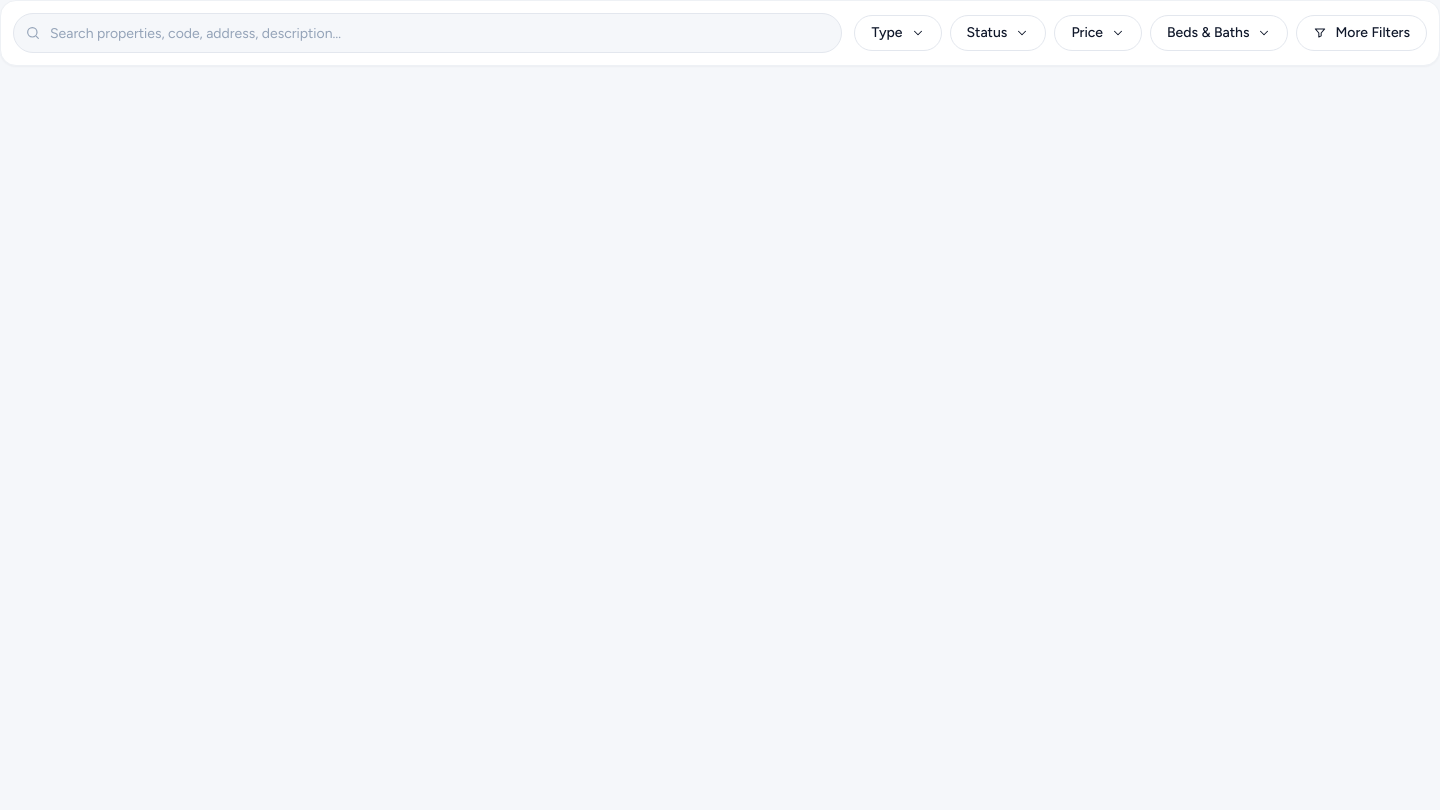
it: FilterControls › toggles type chips via the Type dialog
The image size is (1440, 810).
Click the button "Type" at {"x": 898, "y": 33}, box [854,15,942,51]
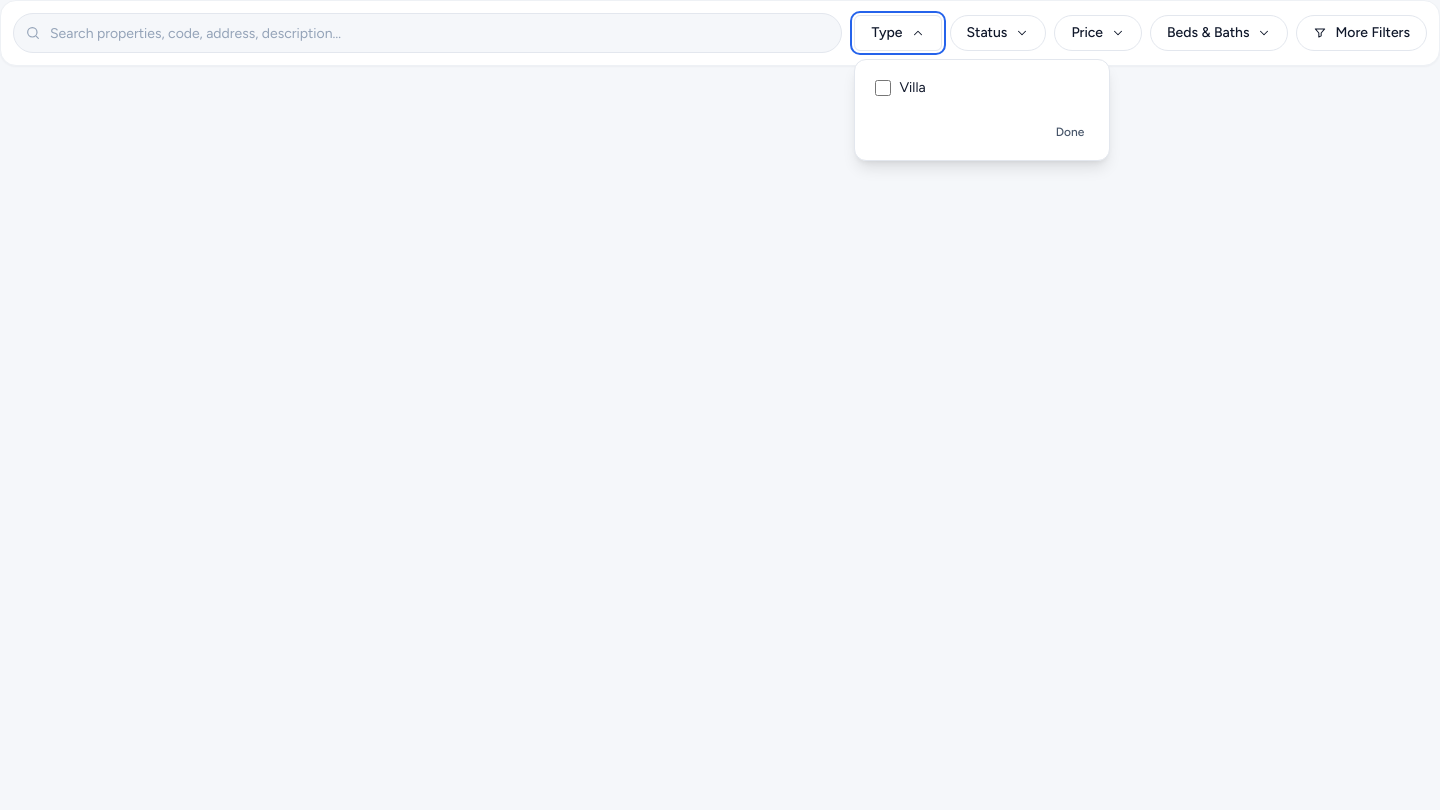
Click the checkbox labelled "Villa" at {"x": 883, "y": 88}, box [875,80,891,96]
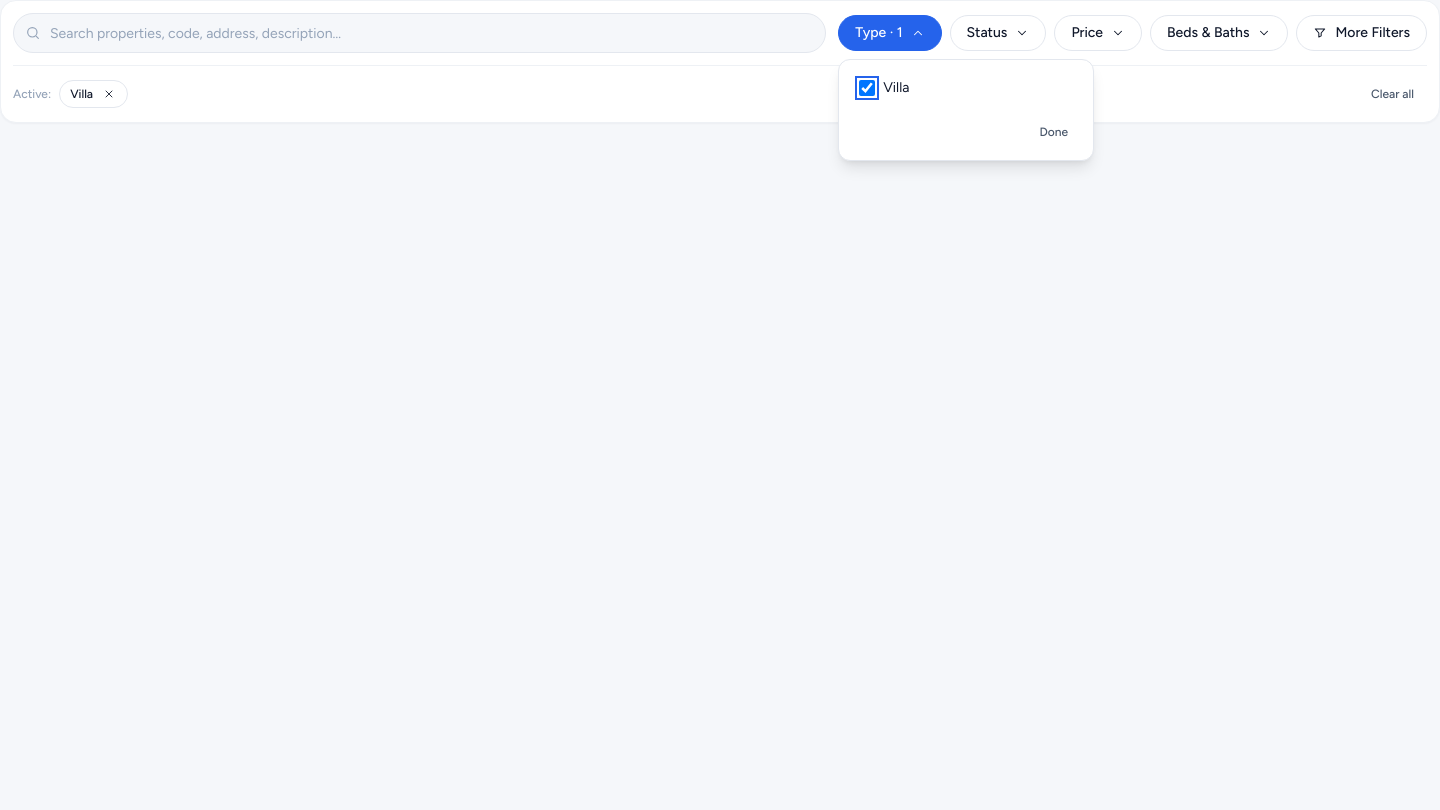
Expected: the button named "Remove Villa" is shown, [101,86,117,102]
